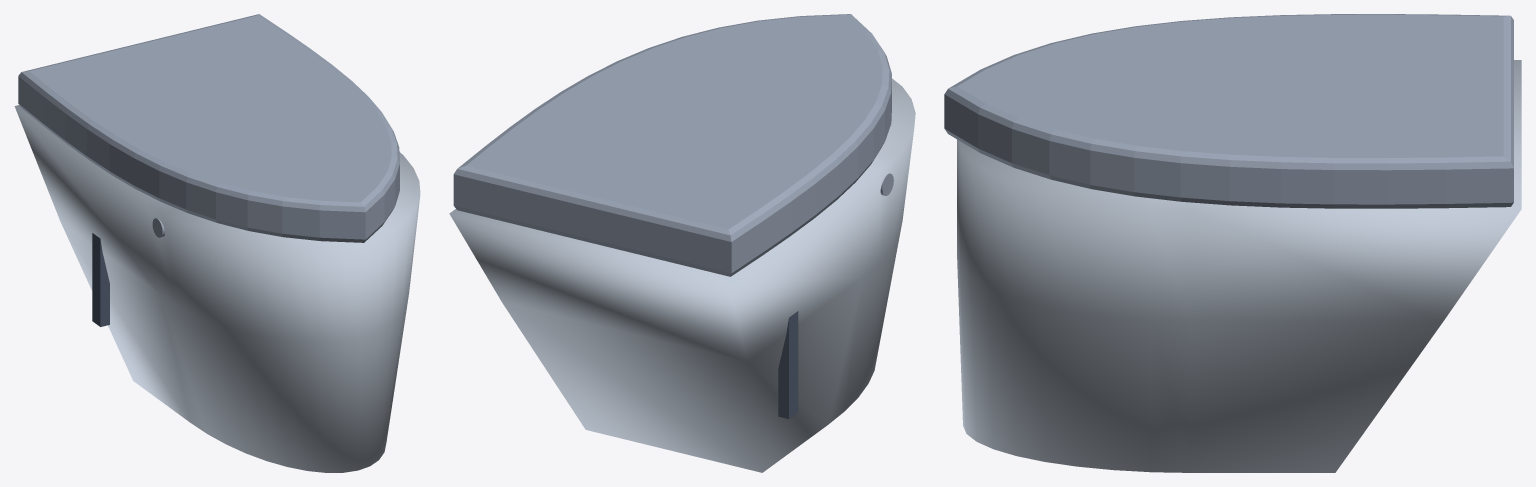
Rendered from toilet.glb.
3 views of the same model, side by side, from view 1: azimuth 30°, elevation 25°; view 2: azimuth 150°, elevation 25°; view 3: azimuth 270°, elevation 25° (orthographic). The views are drawn at different scales.
Visible parts, largest first — view 1: toilet; view 2: toilet; view 3: toilet.
Boxes of the visible parts, <box> form: toilet: <box>14,14,420,472</box>; toilet: <box>449,14,915,472</box>; toilet: <box>944,14,1521,472</box>.
Bounding box in the file's own units: 0.4191 × 0.4364 × 0.6727.
